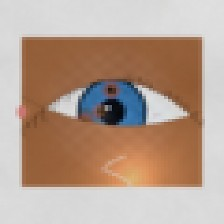foreign_body_visible: (64, 107, 104, 139)
